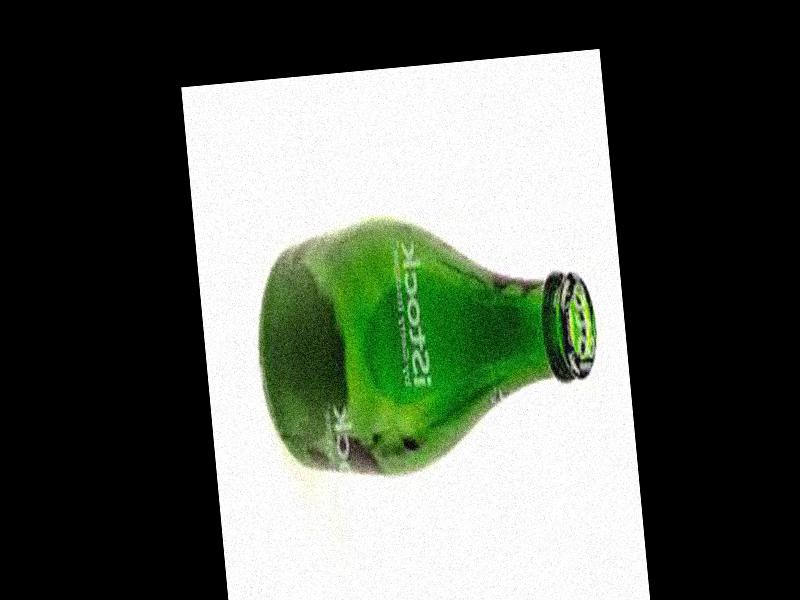Beer: (247, 199, 609, 488)
